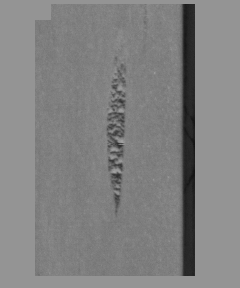oxl: (35, 10, 205, 278)
